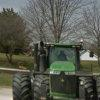Tractor: (7, 35, 100, 100)
